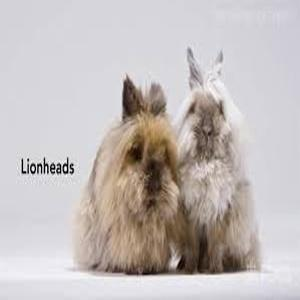rabbit: (73, 48, 262, 276)
